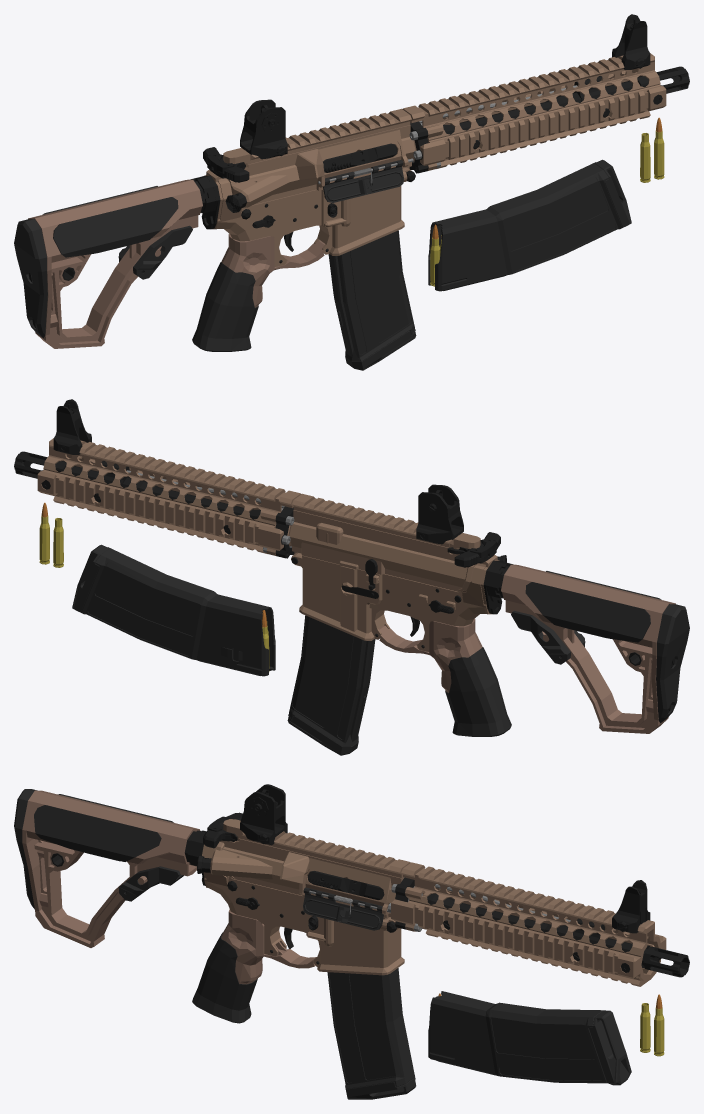
File: rifle_mk18.glb
The picture shows the model from 3 angles, top to bottom: view 1: azimuth 30°, elevation 25°; view 2: azimuth 150°, elevation 25°; view 3: azimuth 330°, elevation 25°; orthographic projection.
Visible parts, largest first — view 1: ddmk18 stock_17, ddmk18 handguard_15, ar15 32rnd mag (dd)_13, ddmk18 lower_3, ddmk18 upper_0, ar15 32rnd mag empty (dd)_12, ddmk18 grip_16, ddmk18 iron sight_18, ddmk18 dust cover_4, ddmk18 10.3in barrel_9, ddmk18 bolt_6, ddmk18 charging handle_11 (+1 smaller); view 2: ddmk18 stock_17, ddmk18 handguard_15, ar15 32rnd mag (dd)_13, ddmk18 lower_3, ddmk18 upper_0, ar15 32rnd mag empty (dd)_12, ddmk18 grip_16, ddmk18 iron sight_18, ddmk18 10.3in barrel_9, ddmk18 charging handle_11, ddmk18 flash hider_14; view 3: ddmk18 handguard_15, ddmk18 stock_17, ar15 32rnd mag (dd)_13, ar15 32rnd mag empty (dd)_12, ddmk18 upper_0, ddmk18 lower_3, ddmk18 grip_16, ddmk18 iron sight_18, ddmk18 dust cover_4, ddmk18 10.3in barrel_9, ddmk18 bolt_6, ddmk18 flash hider_14 (+3 smaller).
Boxes of the visible parts, x1,y1,x2,y2 form: ddmk18 stock_17: (14, 179, 202, 348); ddmk18 handguard_15: (402, 53, 666, 170); ar15 32rnd mag (dd)_13: (428, 159, 631, 291); ddmk18 lower_3: (190, 167, 415, 266); ddmk18 upper_0: (223, 108, 416, 212); ar15 32rnd mag empty (dd)_12: (328, 230, 416, 370); ddmk18 grip_16: (192, 233, 324, 351); ddmk18 iron sight_18: (240, 14, 650, 159); ddmk18 dust cover_4: (318, 158, 413, 202); ddmk18 10.3in barrel_9: (409, 76, 640, 173); ddmk18 bolt_6: (323, 143, 397, 172); ddmk18 charging handle_11: (203, 147, 249, 182); ddmk18 stock_17: (501, 564, 689, 733); ddmk18 handguard_15: (37, 438, 301, 555); ar15 32rnd mag (dd)_13: (72, 544, 275, 676); ddmk18 lower_3: (291, 552, 513, 651); ddmk18 upper_0: (287, 493, 506, 591); ar15 32rnd mag empty (dd)_12: (287, 615, 375, 755); ddmk18 grip_16: (379, 618, 511, 736); ddmk18 iron sight_18: (53, 399, 463, 544); ddmk18 10.3in barrel_9: (63, 461, 294, 558); ddmk18 charging handle_11: (447, 532, 500, 567); ddmk18 flash hider_14: (14, 451, 66, 478); ddmk18 handguard_15: (391, 862, 666, 986); ddmk18 stock_17: (14, 789, 200, 947); ar15 32rnd mag (dd)_13: (428, 991, 631, 1085); ar15 32rnd mag empty (dd)_12: (327, 968, 416, 1099); ddmk18 upper_0: (197, 819, 410, 917); ddmk18 lower_3: (184, 830, 404, 975); ddmk18 grip_16: (192, 909, 316, 1023); ddmk18 iron sight_18: (240, 784, 650, 933); ddmk18 dust cover_4: (303, 887, 390, 930); ddmk18 10.3in barrel_9: (387, 877, 654, 960); ddmk18 bolt_6: (307, 871, 384, 899); ddmk18 flash hider_14: (641, 945, 689, 977).
Size of the model in its own units: 6.65 by 2.72 by 0.6806.
